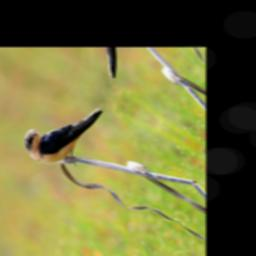Swallow: (16, 68, 109, 186)
